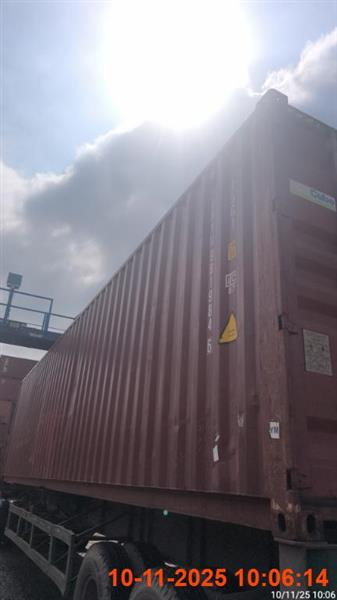broken: (2, 88, 335, 599)
